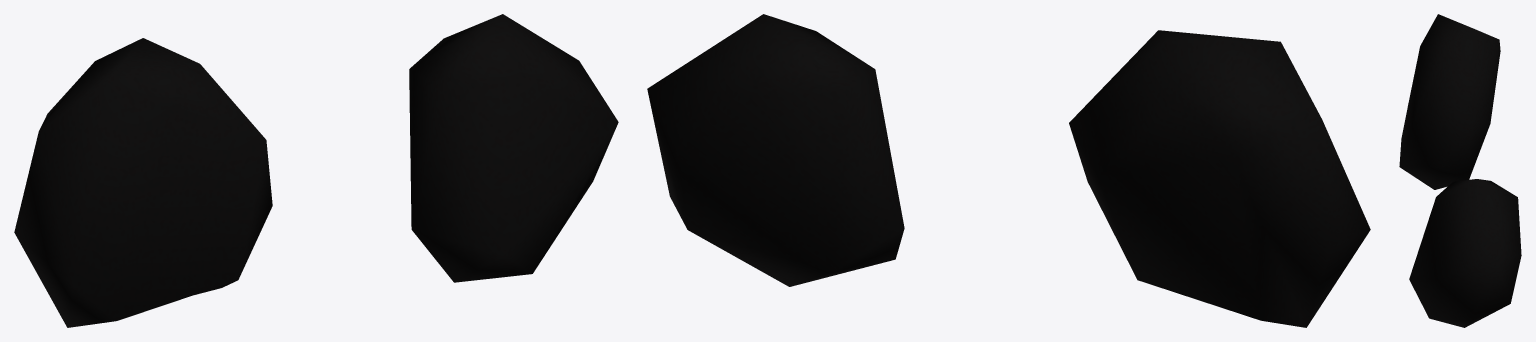
Rendered from regular eyes.glb.
3 renders of one model, left to right at view 1: azimuth 30°, elevation 25°; view 2: azimuth 150°, elevation 25°; view 3: azimuth 270°, elevation 25°, orthographic. The views are drawn at different scales.
Visible parts, largest first — view 1: eyes_normal.001; view 2: eyes_normal.001; view 3: eyes_normal.001.
Boxes of the visible parts, left/top/right/bottom form: eyes_normal.001: left=14, top=14, right=618, bottom=327; eyes_normal.001: left=647, top=14, right=1370, bottom=327; eyes_normal.001: left=1399, top=14, right=1521, bottom=327.
Bounding box in the file's own units: 0.0629 × 0.0319 × 0.0182.
1 material, 1 textured.
